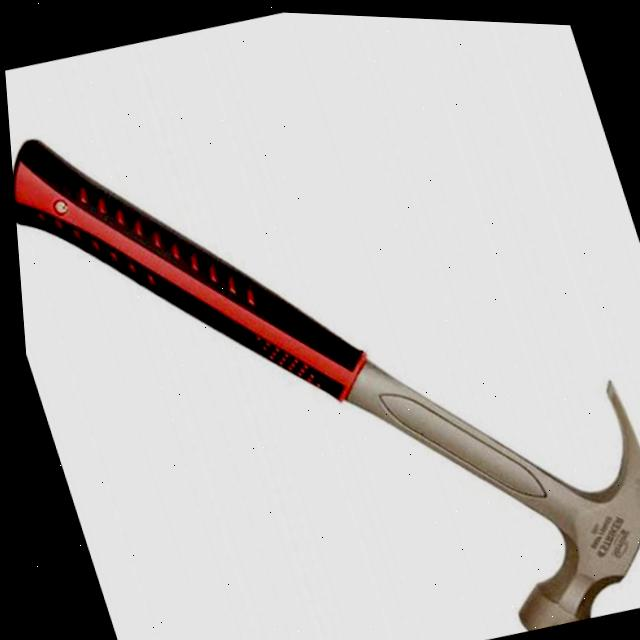hammer: (0, 3, 640, 640)
